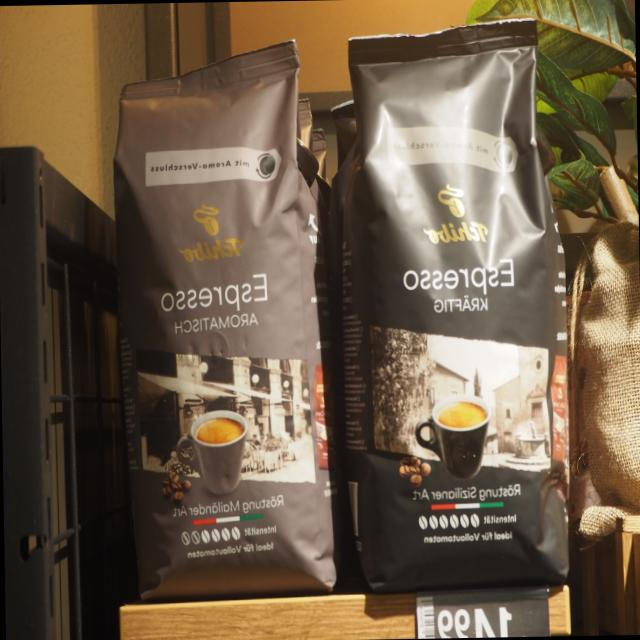Espresso Aromatisch: (103, 31, 344, 614)
Espresso Kraftig: (332, 11, 576, 603)
